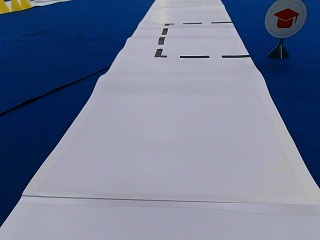school: (264, 1, 306, 37)
